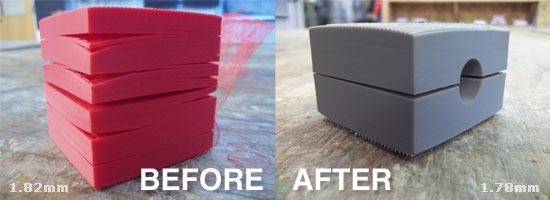crack: (31, 27, 231, 142), (301, 46, 525, 116)
